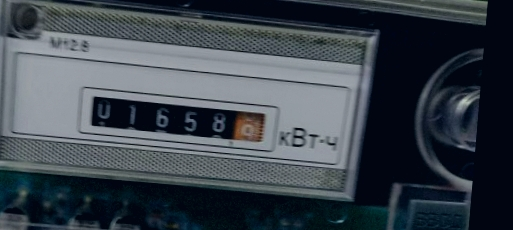0: (93, 97, 112, 120)
1: (123, 101, 139, 126)
5: (181, 108, 199, 133)
6: (152, 104, 172, 130)
8: (209, 110, 227, 133)
9: (237, 121, 255, 143)
screen: (73, 82, 283, 157)
